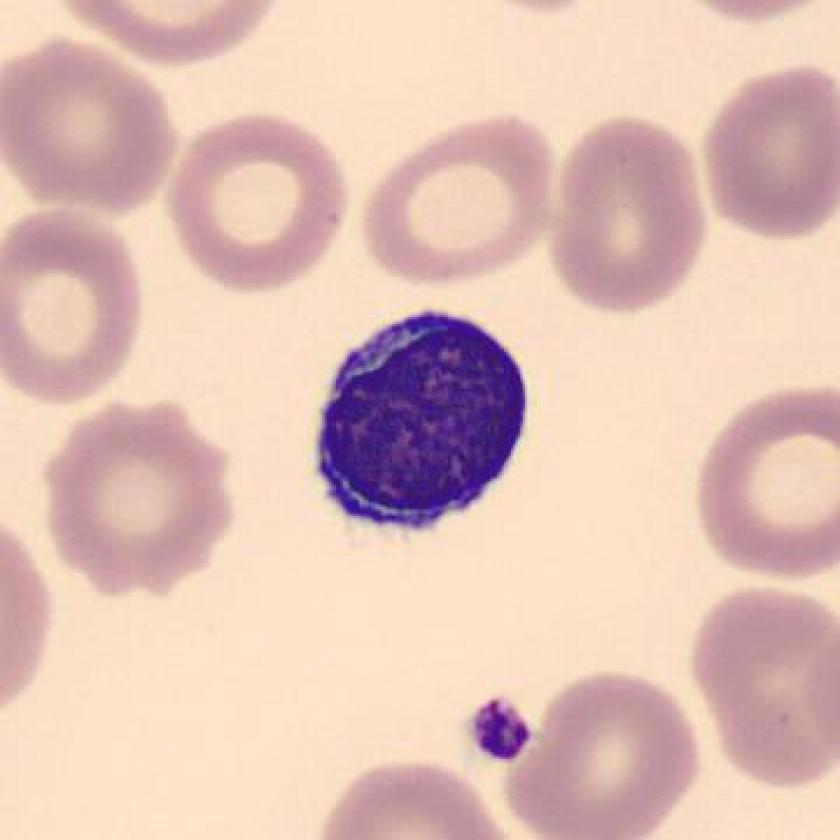lymphocyte: (297, 297, 547, 547)
